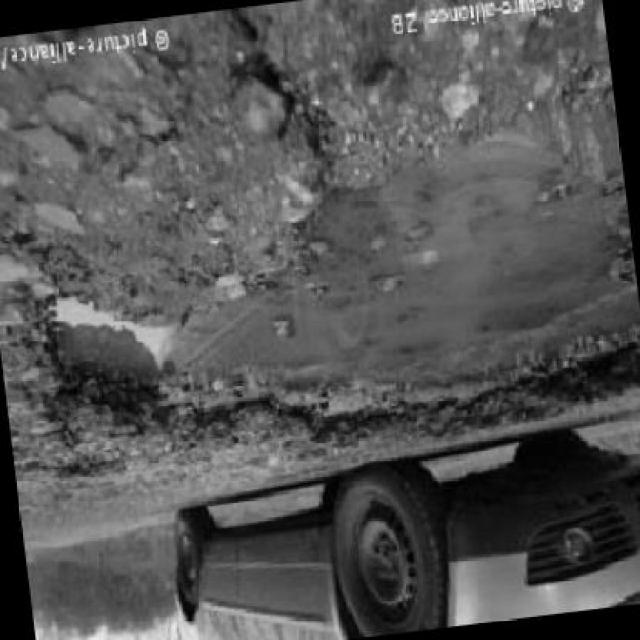pothole: (3, 59, 640, 498)
